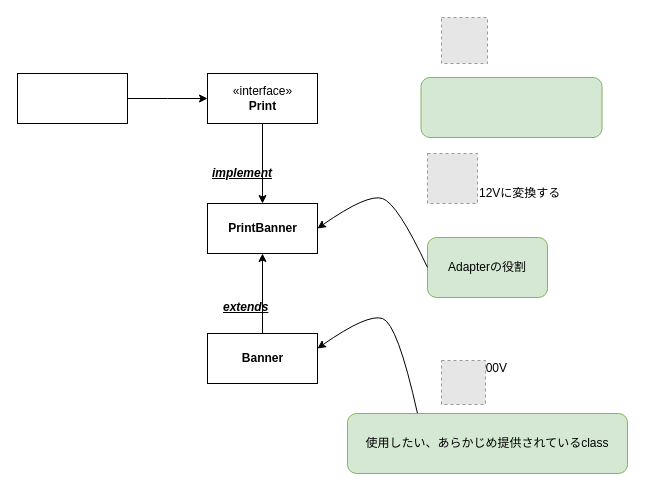
This 645x491 diagram has some shape labels left out. Grey dashed boxes stand in for pictures. The shapes that lost their labels are listed below. From the top down, each one's box as (x1, y1, x2, y2) in pixels, then its label:
(16, 72, 128, 124): Client
(420, 76, 602, 138): 12Vを供給する 今回必要なインターフェース
